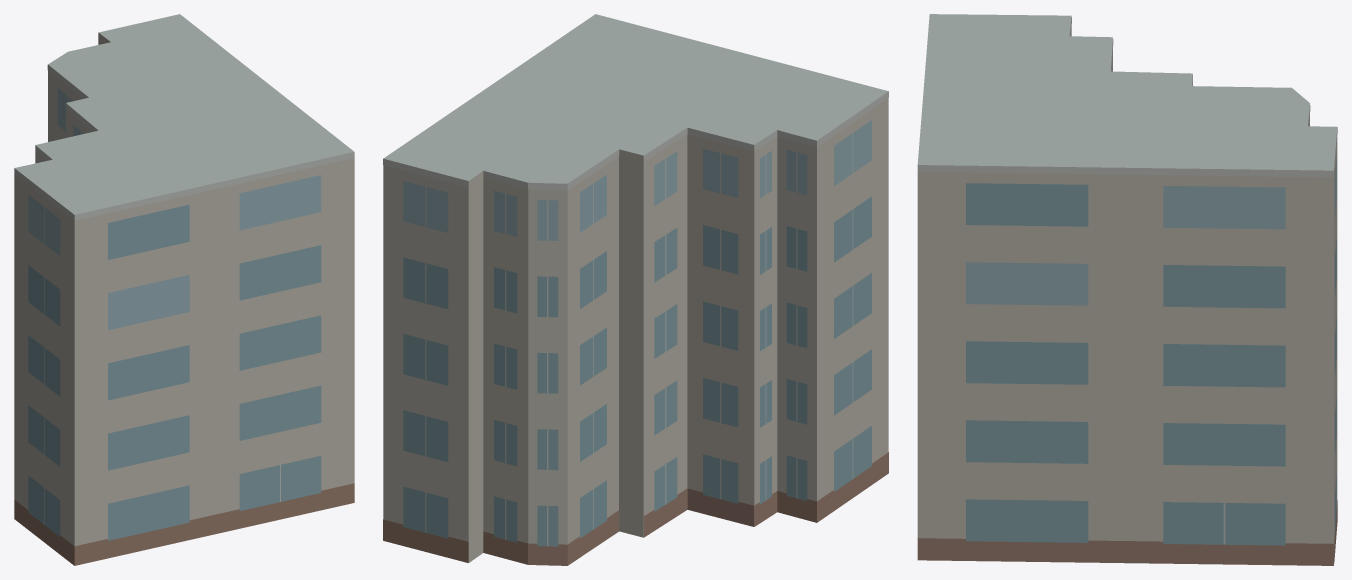
Rendered from survey-upis-33004446.glb.
The picture shows the model from 3 angles, left to right: view 1: azimuth 30°, elevation 25°; view 2: azimuth 150°, elevation 25°; view 3: azimuth 270°, elevation 25°; orthographic projection. The views are drawn at different scales.
Visible parts, largest first — view 1: survey-upis-33004446.tmp; view 2: survey-upis-33004446.tmp; view 3: survey-upis-33004446.tmp.
Part boxes in pixels (bbox=[...]): survey-upis-33004446.tmp: bbox=[14, 14, 354, 565]; survey-upis-33004446.tmp: bbox=[383, 14, 888, 565]; survey-upis-33004446.tmp: bbox=[917, 14, 1337, 565].
Bounding box in the file's own units: 12.12 × 14.25 × 13.72.
